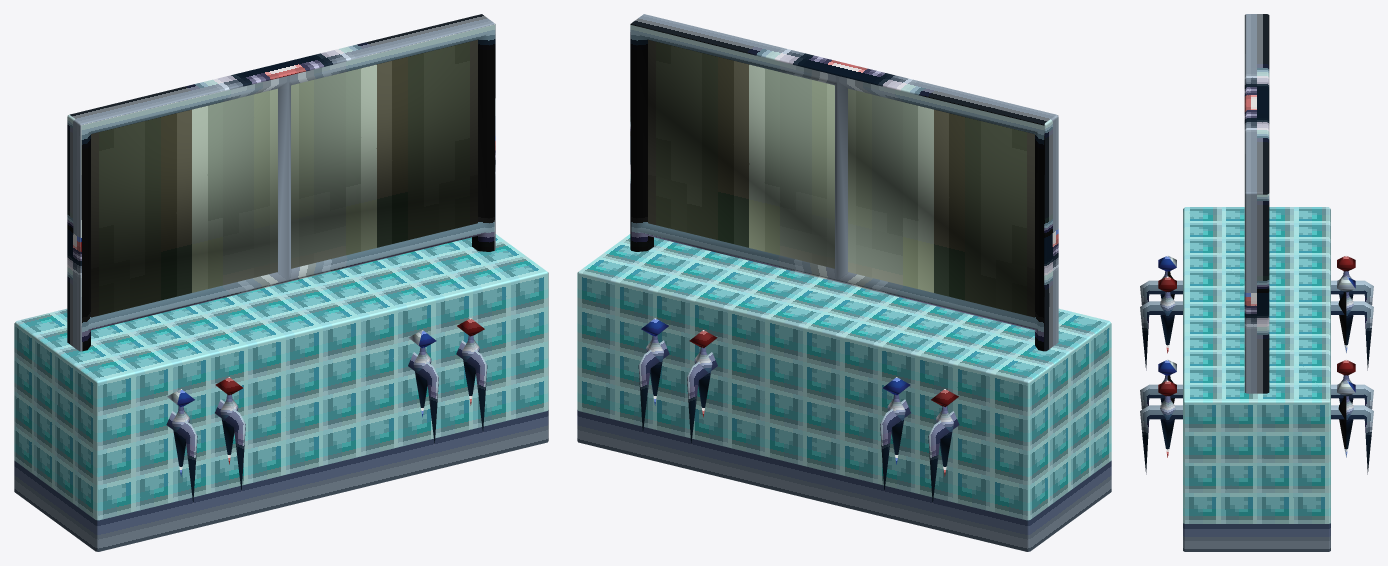
Rendered from int_bth_lavatory.dae.
3 views of the same model, side by side, from view 1: azimuth 30°, elevation 25°; view 2: azimuth 150°, elevation 25°; view 3: azimuth 270°, elevation 25° (orthographic). The views are drawn at different scales.
Visible parts, largest first — view 1: int_bth_lavatory; view 2: int_bth_lavatory; view 3: int_bth_lavatory.
Part boxes in pixels (x1,y1,x2,y2): int_bth_lavatory: (14, 14, 548, 551); int_bth_lavatory: (577, 14, 1111, 551); int_bth_lavatory: (1140, 14, 1373, 551).
Size of the model in its own units: 60 by 50.4 by 30.4.
3 materials, 3 textured.
